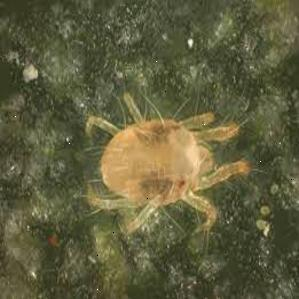spider mite: (68, 75, 262, 257)
